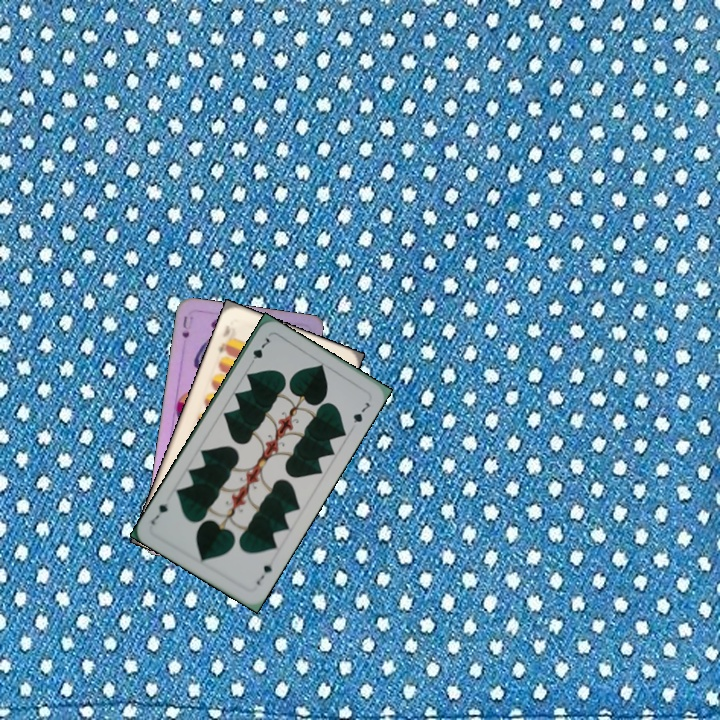E10: (215, 321, 233, 356)
G7: (245, 333, 272, 369), (252, 560, 275, 588)
SU: (178, 312, 195, 341)
